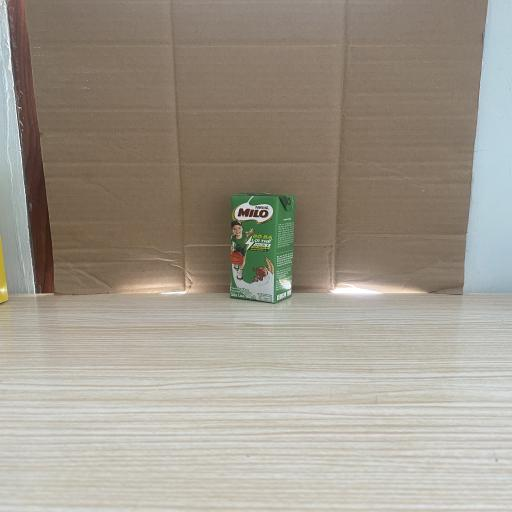milo: (230, 193, 296, 304)
